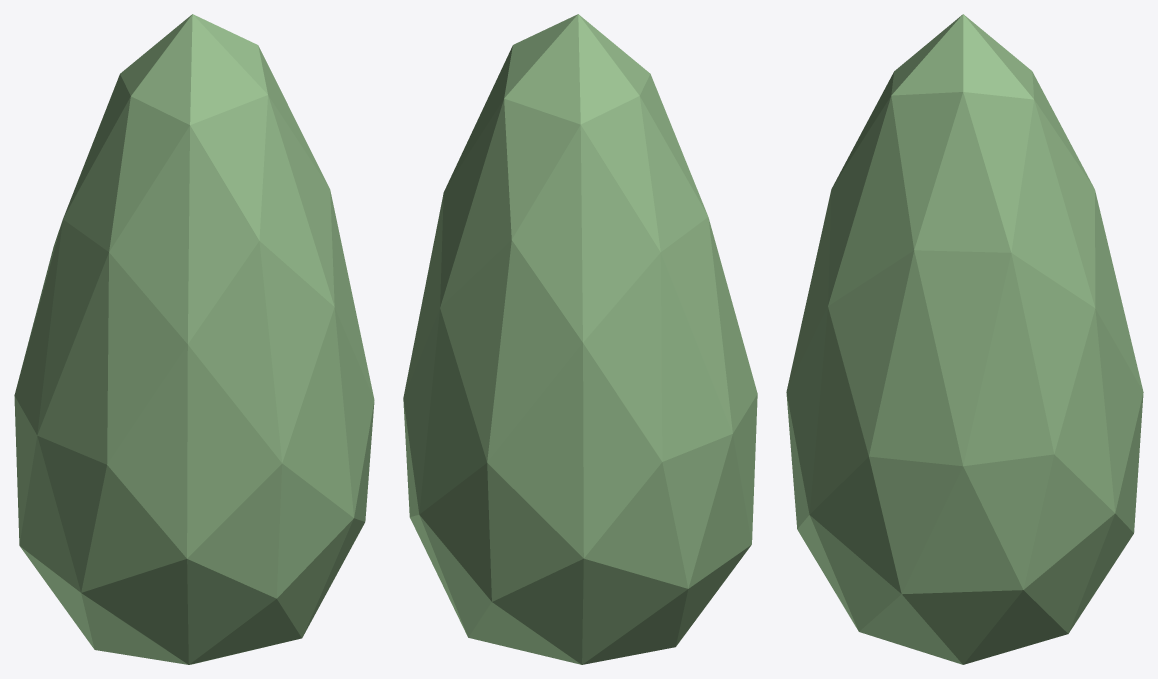
Rendered from tree-conifer-b-crown-far.glb.
3 renders of one model, left to right at view 1: azimuth 30°, elevation 25°; view 2: azimuth 150°, elevation 25°; view 3: azimuth 270°, elevation 25°, orthographic.
Parts seen in each view (by area): view 1: tree-conifer-b-crown-far; view 2: tree-conifer-b-crown-far; view 3: tree-conifer-b-crown-far.
Part boxes in pixels (x1,y1,x2,y2): tree-conifer-b-crown-far: [14, 14, 374, 664]; tree-conifer-b-crown-far: [403, 14, 757, 664]; tree-conifer-b-crown-far: [786, 14, 1143, 664].
Bounding box in the file's own units: 0.2878 × 0.5779 × 0.2919.
